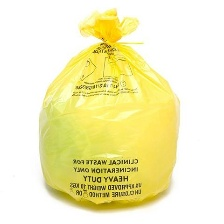plastic_bag: (25, 5, 182, 207)
